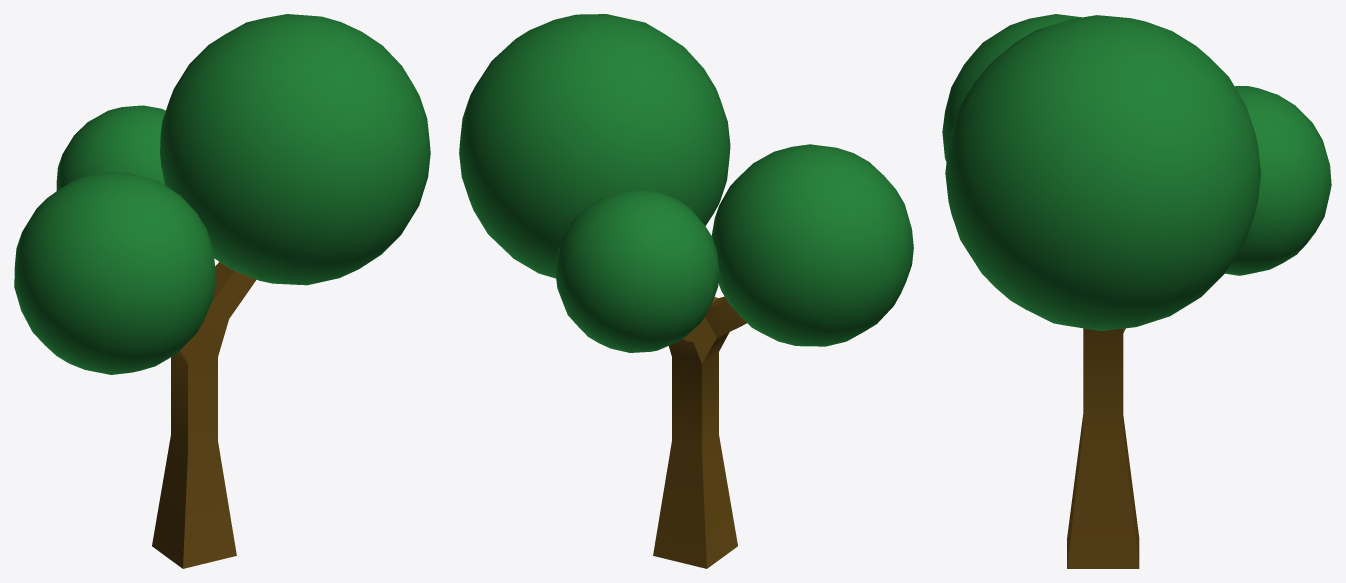
File: tree1.fbx
The picture shows the model from 3 angles, left to right: view 1: azimuth 30°, elevation 25°; view 2: azimuth 150°, elevation 25°; view 3: azimuth 270°, elevation 25°; orthographic projection. The views are drawn at different scales.
Parts seen in each view (by area): view 1: agac2; view 2: agac2; view 3: agac2.
Boxes of the visible parts, <box> form: agac2: <box>14,14,430,568</box>; agac2: <box>459,14,913,568</box>; agac2: <box>942,14,1331,568</box>.
Bounding box in the file's own units: 201 × 237 × 144.
